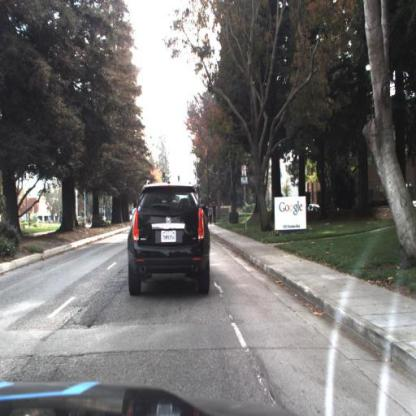car: (126, 180, 214, 302)
trafficLight-Green: (162, 173, 167, 184), (177, 176, 181, 184)
